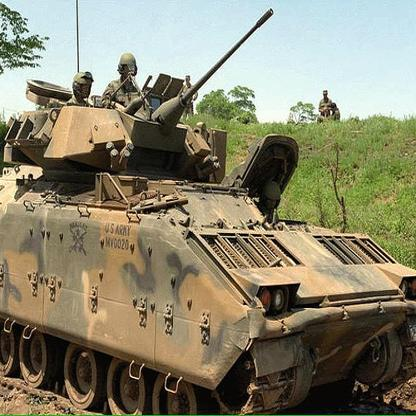Tank: (2, 33, 416, 416)
